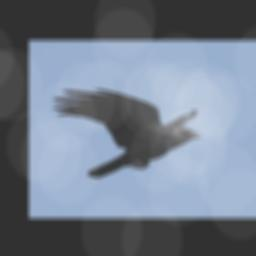Crow: (52, 87, 203, 178)
